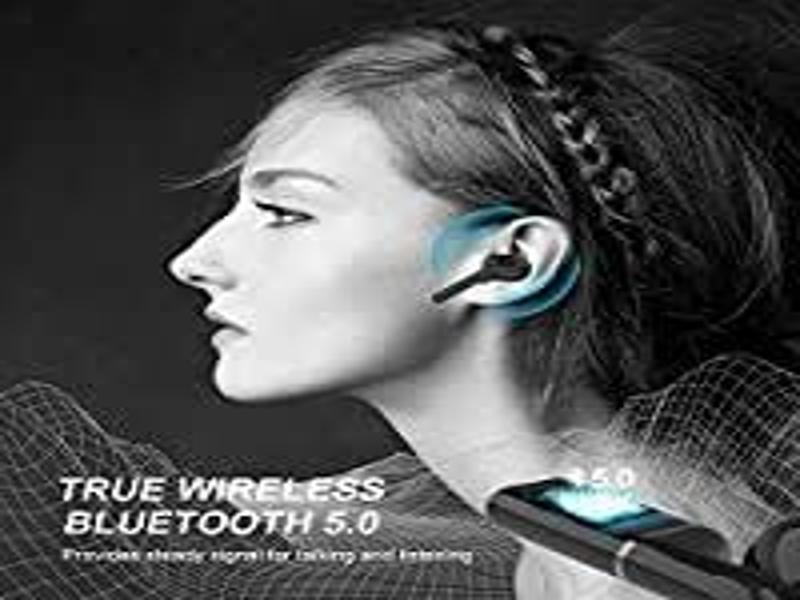headphone: (432, 251, 532, 305)
